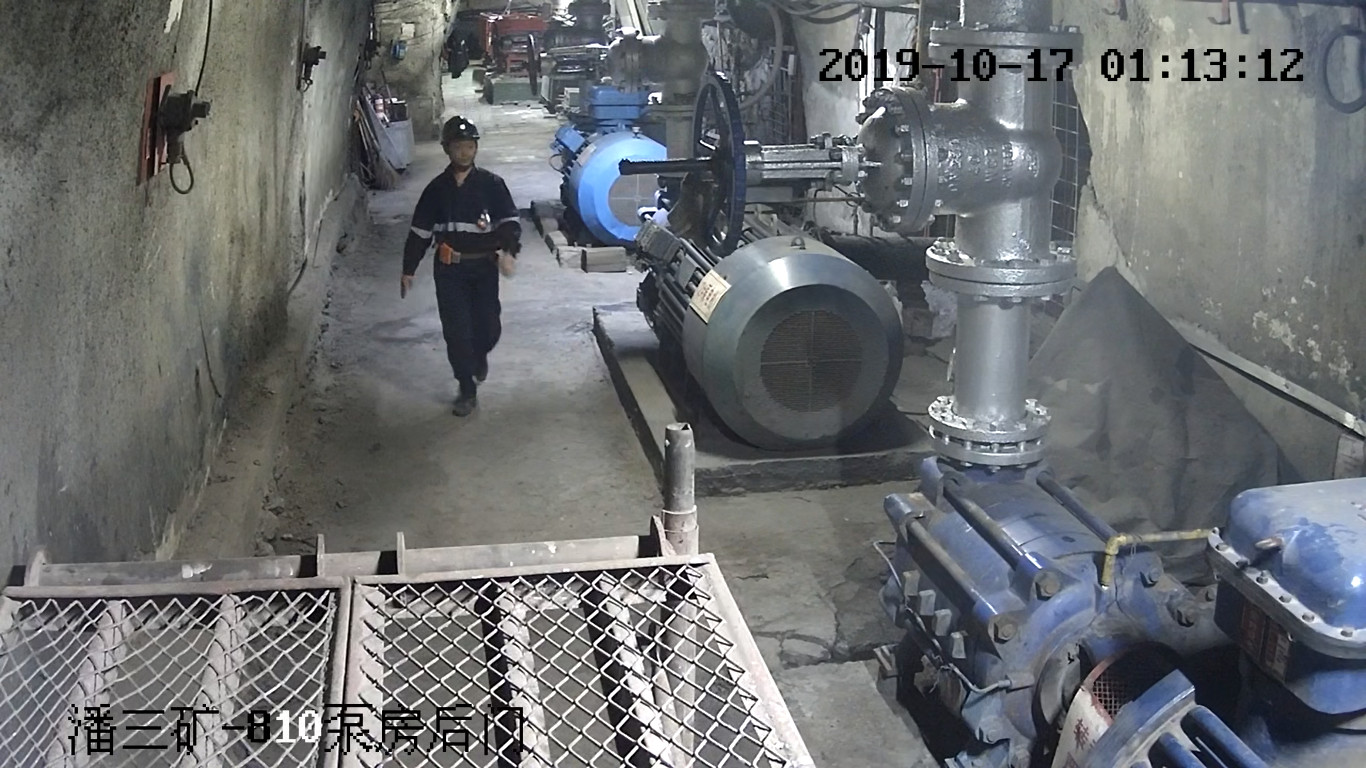helmet: (440, 116, 481, 148)
